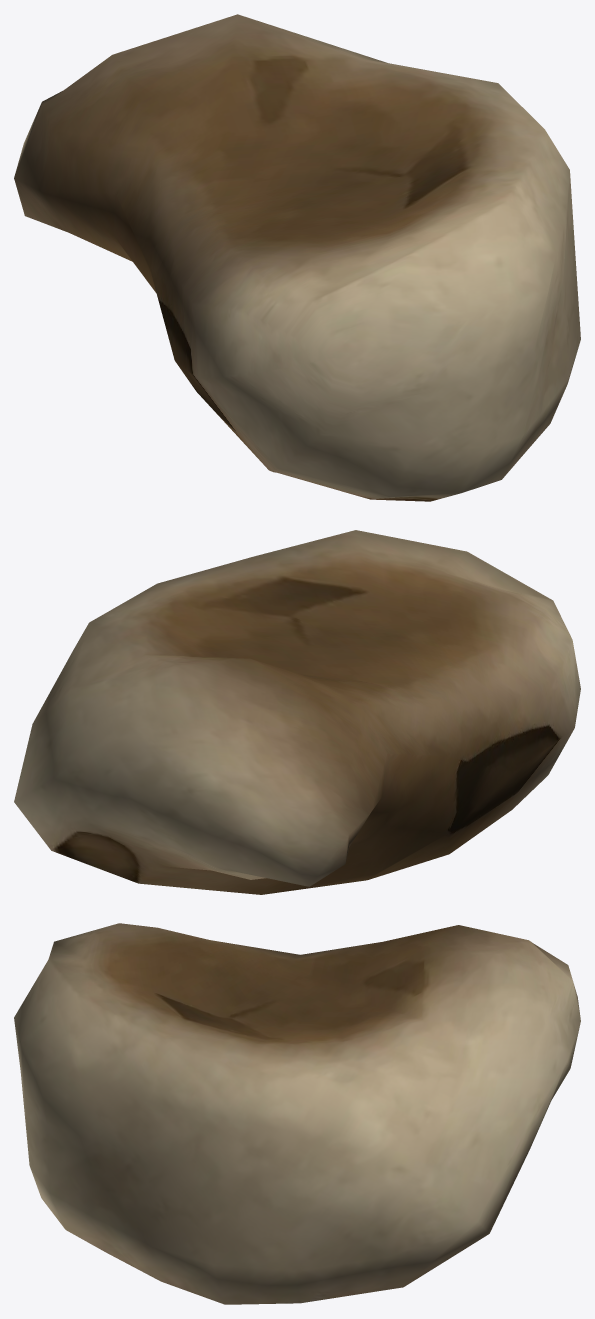
File: Central_Tarsal.glb
3 views of the same model, one above another, from view 1: azimuth 30°, elevation 25°; view 2: azimuth 150°, elevation 25°; view 3: azimuth 270°, elevation 25° (orthographic). The views are drawn at different scales.
Visible parts, largest first — view 1: Central_Tarsal_Right1:Group64455; view 2: Central_Tarsal_Right1:Group64455; view 3: Central_Tarsal_Right1:Group64455.
Boxes of the visible parts, <box> form: Central_Tarsal_Right1:Group64455: <box>14,14,580,501</box>; Central_Tarsal_Right1:Group64455: <box>14,530,580,894</box>; Central_Tarsal_Right1:Group64455: <box>14,923,580,1304</box>.
Bounding box in the file's own units: 13.08 × 9.06 × 16.08.
Materials: 1 (1 with a texture image).
